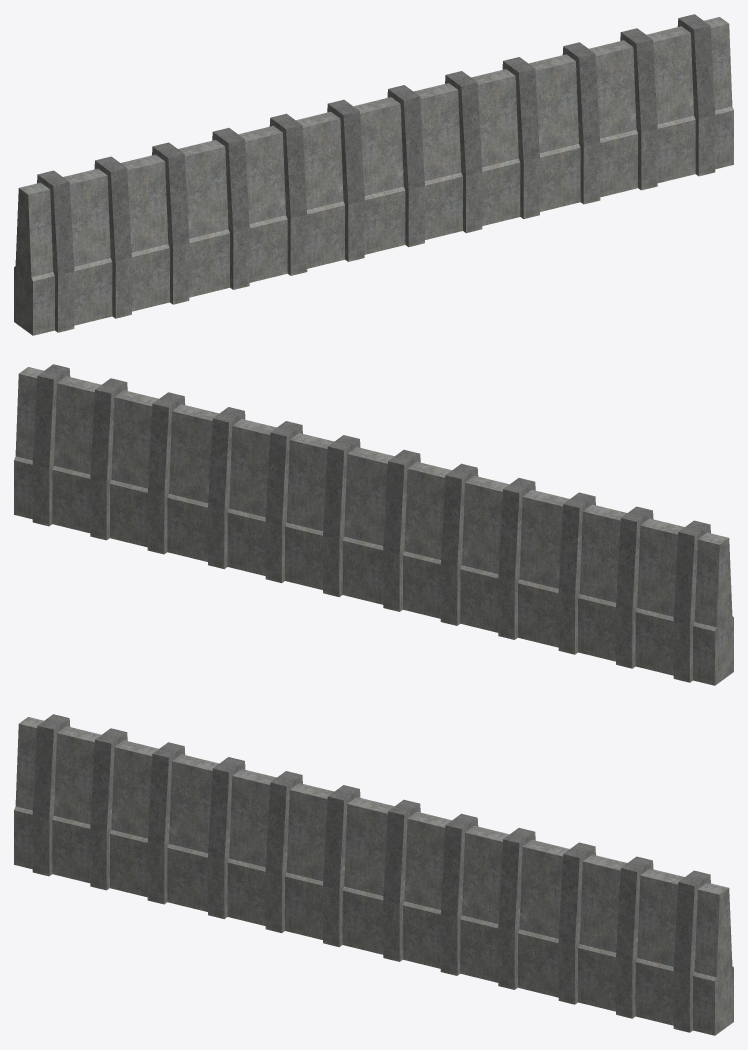
Rendered from mun_all_military_wall_med_impl_32_s01_l0.fbx.
3 views of the same model, one above another, from view 1: azimuth 30°, elevation 25°; view 2: azimuth 150°, elevation 25°; view 3: azimuth 330°, elevation 25° (orthographic).
Parts seen in each view (by area): view 1: mesh_node; view 2: mesh_node; view 3: mesh_node.
Part boxes in pixels (x1,y1,x2,y2): mesh_node: (14,14,733,335); mesh_node: (14,364,733,685); mesh_node: (14,714,733,1035).
Size of the model in its own units: 32 by 6.25 by 2.
